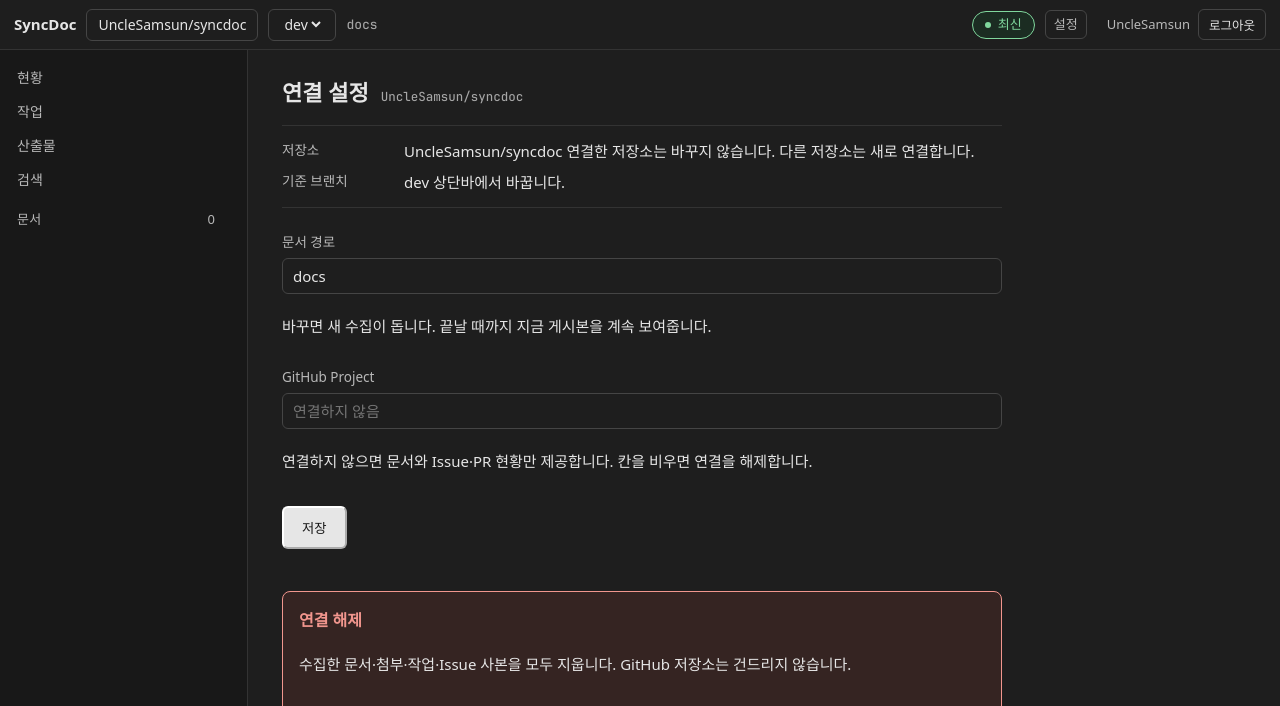
UI-015 연결 설정 › sends the version it saw when saving
Replace the text in the field labelled "문서 경로" with "spec": (642, 276) [282,258,1002,294]
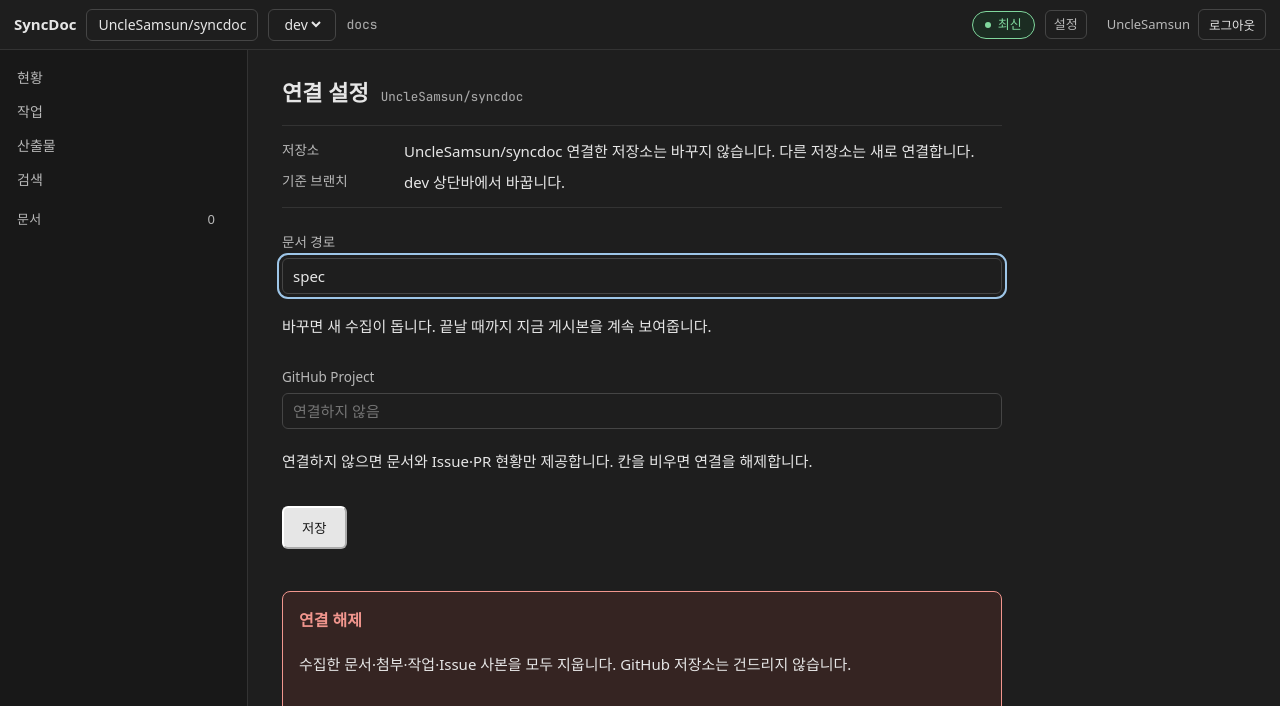
Click the button "저장": (314, 527) [282,506,346,548]
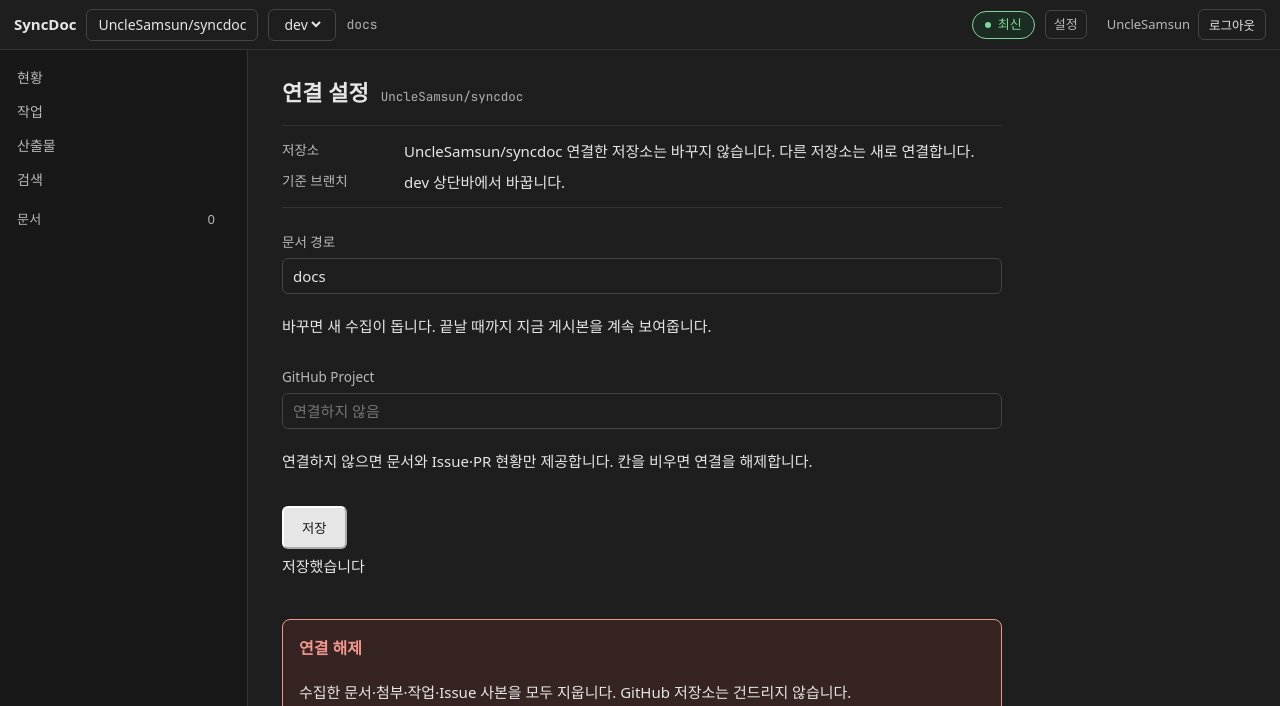
Expected: the text "저장했습니다" is shown, [282,556,365,576]
